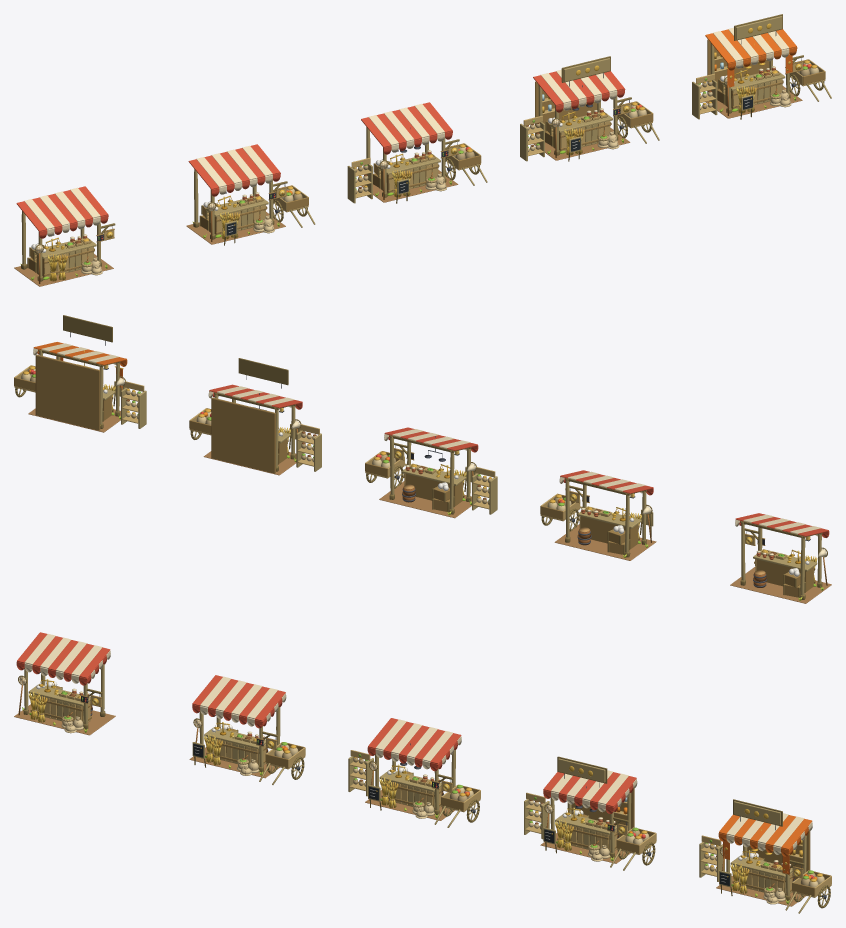
Rendered from etal-niveaux.glb.
3 views of the same model, one above another, from view 1: azimuth 30°, elevation 25°; view 2: azimuth 150°, elevation 25°; view 3: azimuth 330°, elevation 25° (orthographic).
Visible parts, largest first — view 1: toile, toile.002, toile.004, toile.003, toile.001, toile.005, toile.009, toile.006, toile.007, toile.008, mur, mur.001 (+9 smaller); view 2: mur.001, mur, terre_battue, terre_battue.001, terre_battue.002, poteau.002, poteau, enseigne.005, enseigne.008, poteau.004, comptoir.002, comptoir (+6 smaller); view 3: toile, toile.002, toile.004, toile.005, toile.001, toile.003, toile.006, toile.009, toile.007, toile.008, planche.006, planche.008 (+8 smaller).
Part boxes in pixels (x1=…): toile: x1=16, y1=186, x2=108, y2=235; toile.002: x1=188, y1=144, x2=280, y2=193; toile.004: x1=361, y1=102, x2=452, y2=151; toile.003: x1=196, y1=146, x2=272, y2=191; toile.001: x1=24, y1=187, x2=100, y2=233; toile.005: x1=369, y1=104, x2=444, y2=149; toile.009: x1=705, y1=29, x2=797, y2=67; toile.006: x1=533, y1=71, x2=625, y2=109; toile.007: x1=541, y1=69, x2=617, y2=107; toile.008: x1=713, y1=27, x2=789, y2=65; mur: x1=535, y1=81, x2=597, y2=135; mur.001: x1=707, y1=39, x2=769, y2=93; mur.001: x1=35, y1=354, x2=100, y2=430; mur: x1=211, y1=397, x2=275, y2=473; terre_battue: x1=730, y1=567, x2=831, y2=603; terre_battue.001: x1=554, y1=524, x2=656, y2=560; terre_battue.002: x1=379, y1=481, x2=471, y2=518; poteau.002: x1=565, y1=479, x2=646, y2=552; poteau: x1=741, y1=522, x2=821, y2=595; enseigne.005: x1=238, y1=358, x2=288, y2=385; enseigne.008: x1=63, y1=315, x2=112, y2=342; poteau.004: x1=390, y1=436, x2=470, y2=509; comptoir.002: x1=405, y1=473, x2=462, y2=506; comptoir: x1=756, y1=559, x2=813, y2=591; toile: x1=16, y1=632, x2=110, y2=682; toile.002: x1=192, y1=675, x2=285, y2=725; toile.004: x1=367, y1=718, x2=461, y2=768; toile.005: x1=375, y1=719, x2=461, y2=766; toile.001: x1=24, y1=634, x2=110, y2=680; toile.003: x1=200, y1=676, x2=286, y2=723; toile.006: x1=543, y1=772, x2=636, y2=810; toile.009: x1=718, y1=814, x2=812, y2=853; toile.007: x1=551, y1=770, x2=637, y2=808; toile.008: x1=726, y1=813, x2=812, y2=851; planche.006: x1=525, y1=802, x2=627, y2=850; planche.008: x1=700, y1=844, x2=802, y2=893.
Bounding box in the file's own units: 27.48 × 2.9 × 2.21.
